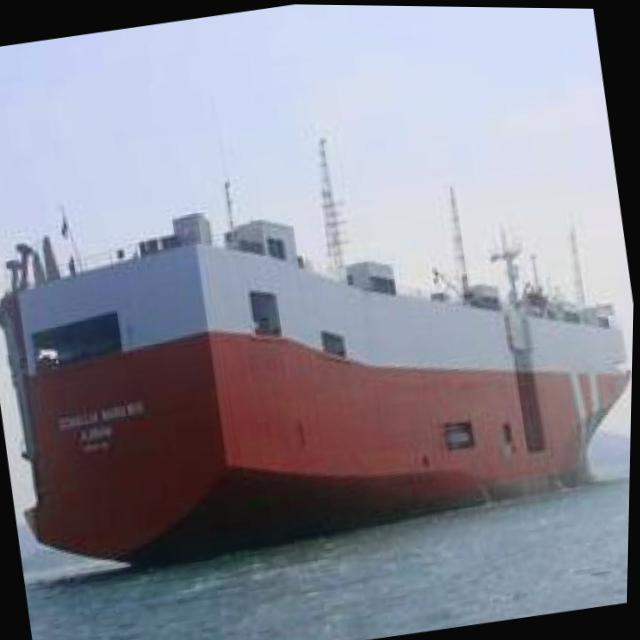ship2: (0, 138, 633, 569)
